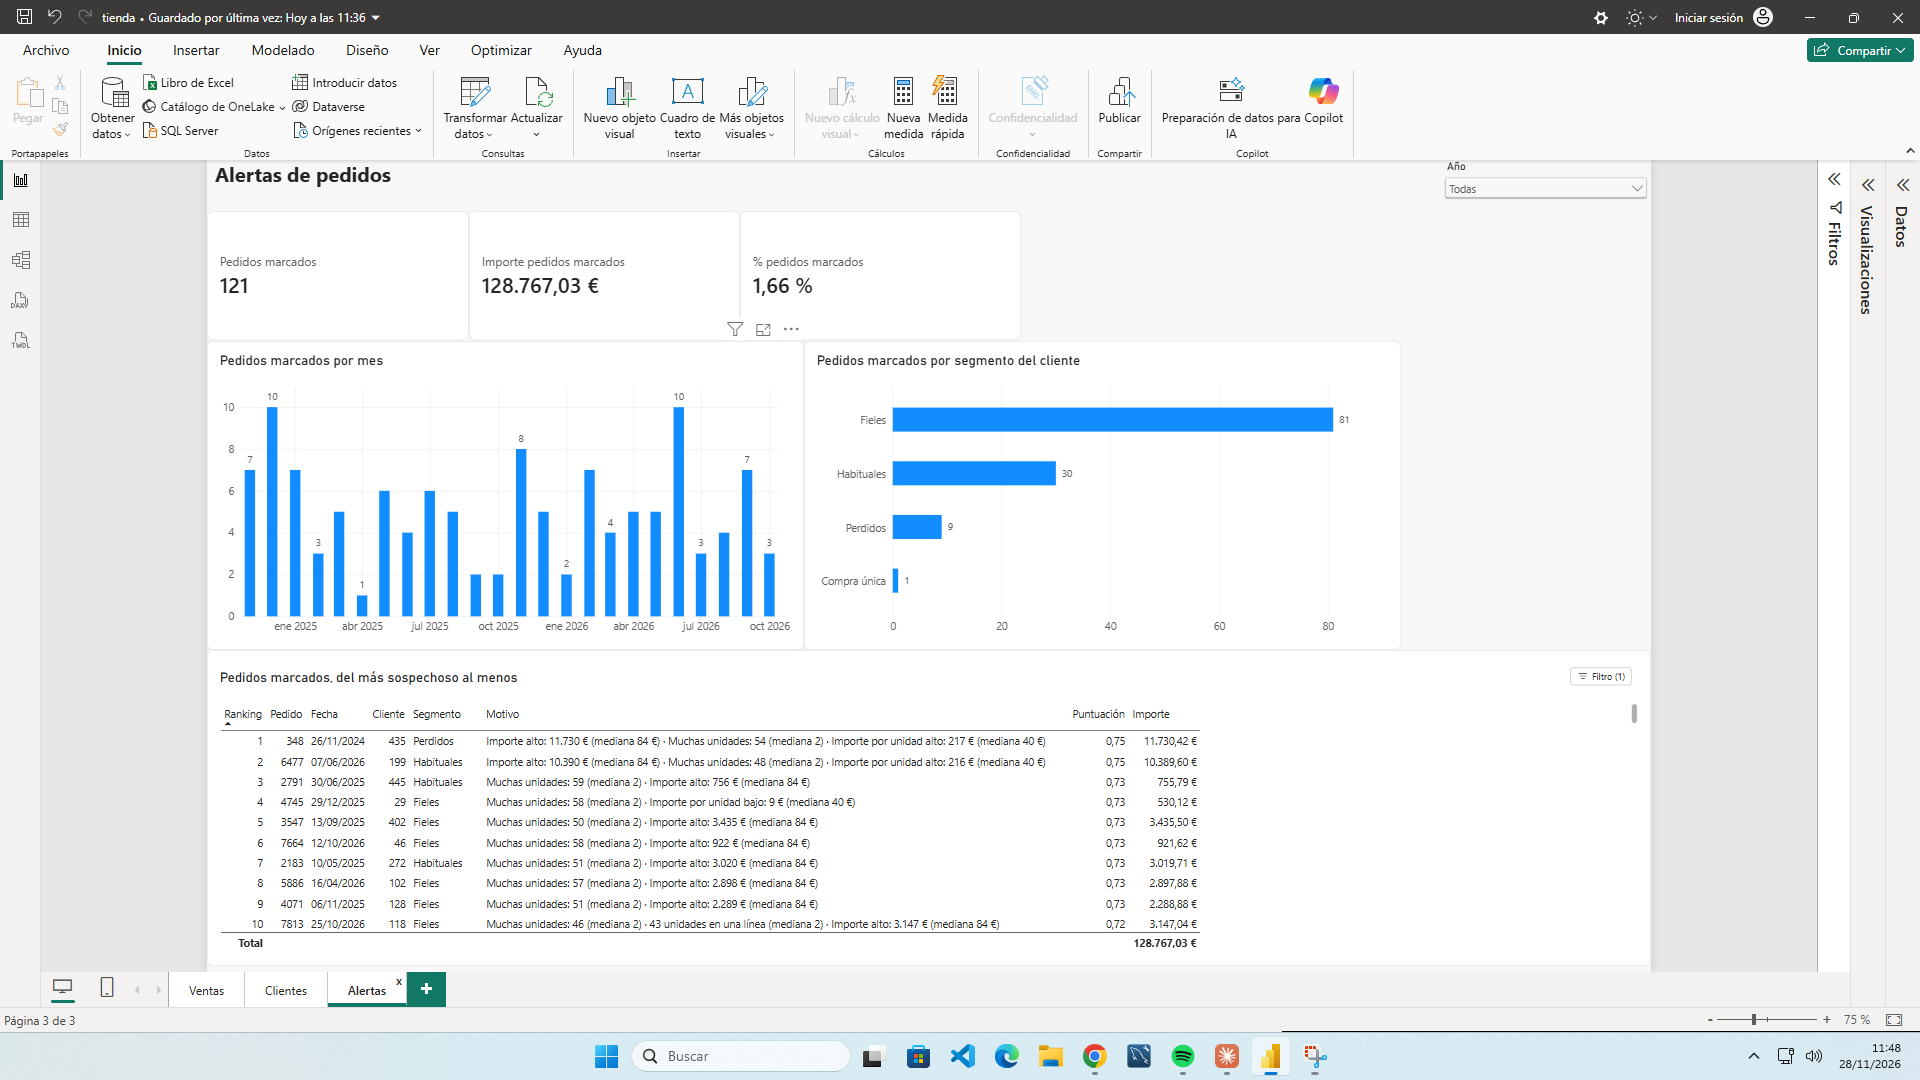

The page's visual inventory and layout, read from the dashboard file:
{"tool":"powerbi","page":{"name":"Alertas","canvas":[1920,1080],"ordinal":2},"visuals":[{"type":"textbox","box":[10.1,0,269.1,67.6],"z":0},{"type":"cardVisual","fields":{"Data":["_Medidas.Pedidos marcados"]},"box":[0,68.1,348.8,173],"z":1},{"type":"cardVisual","fields":{"Data":["_Medidas.Importe pedidos marcados"]},"box":[348.8,68.1,360.2,173],"z":2},{"type":"cardVisual","fields":{"Data":["_Medidas.% pedidos marcados"]},"box":[709,68.1,374.4,173],"z":3},{"type":"slicer","fields":{"Values":["dim_fecha.anio"]},"box":[1641,0,279,69.1],"z":4},{"type":"clusteredColumnChart","title":"Pedidos marcados por mes","fields":{"Category":["dim_fecha.anio_mes"],"Y":["_Medidas.Pedidos marcados"]},"box":[0,241.1,794.1,411.2],"z":5},{"type":"clusteredBarChart","title":"Pedidos marcados por segmento del cliente ","fields":{"Category":["dim_cliente.nombre_segmento"],"Y":["_Medidas.Pedidos marcados"]},"box":[794.1,241.1,794,411],"z":6},{"type":"tableEx","title":"Pedidos marcados, del más sospechoso al menos ","fields":{"Values":["fact_alertas.ranking","fact_alertas.id_pedido","dim_fecha.fecha","dim_cliente.id_cliente","dim_cliente.nombre_segmento","fact_alertas.motivo_principal","fact_alertas.puntuacion","_Medidas.Importe pedidos marcados"]},"box":[0,652.3,1920,419.7],"z":7}]}

Visuals, with their boxes on the page's 1920x1080 design canvas (x1, y1, x2, y2). These are canvas units, not pixel positions in the 1920x1080 screenshot, which may show the page scaled, cropped or inside an application window:
textbox: x1=10 y1=0 x2=279 y2=68
cardVisual - _Medidas.Pedidos marcados: x1=0 y1=68 x2=349 y2=241
cardVisual - _Medidas.Importe pedidos marcados: x1=349 y1=68 x2=709 y2=241
cardVisual - _Medidas.% pedidos marcados: x1=709 y1=68 x2=1083 y2=241
slicer - dim_fecha.anio: x1=1641 y1=0 x2=1920 y2=69
"Pedidos marcados por mes" clusteredColumnChart: x1=0 y1=241 x2=794 y2=652
"Pedidos marcados por segmento del cliente " clusteredBarChart: x1=794 y1=241 x2=1588 y2=652
"Pedidos marcados, del más sospechoso al menos " tableEx: x1=0 y1=652 x2=1920 y2=1072
